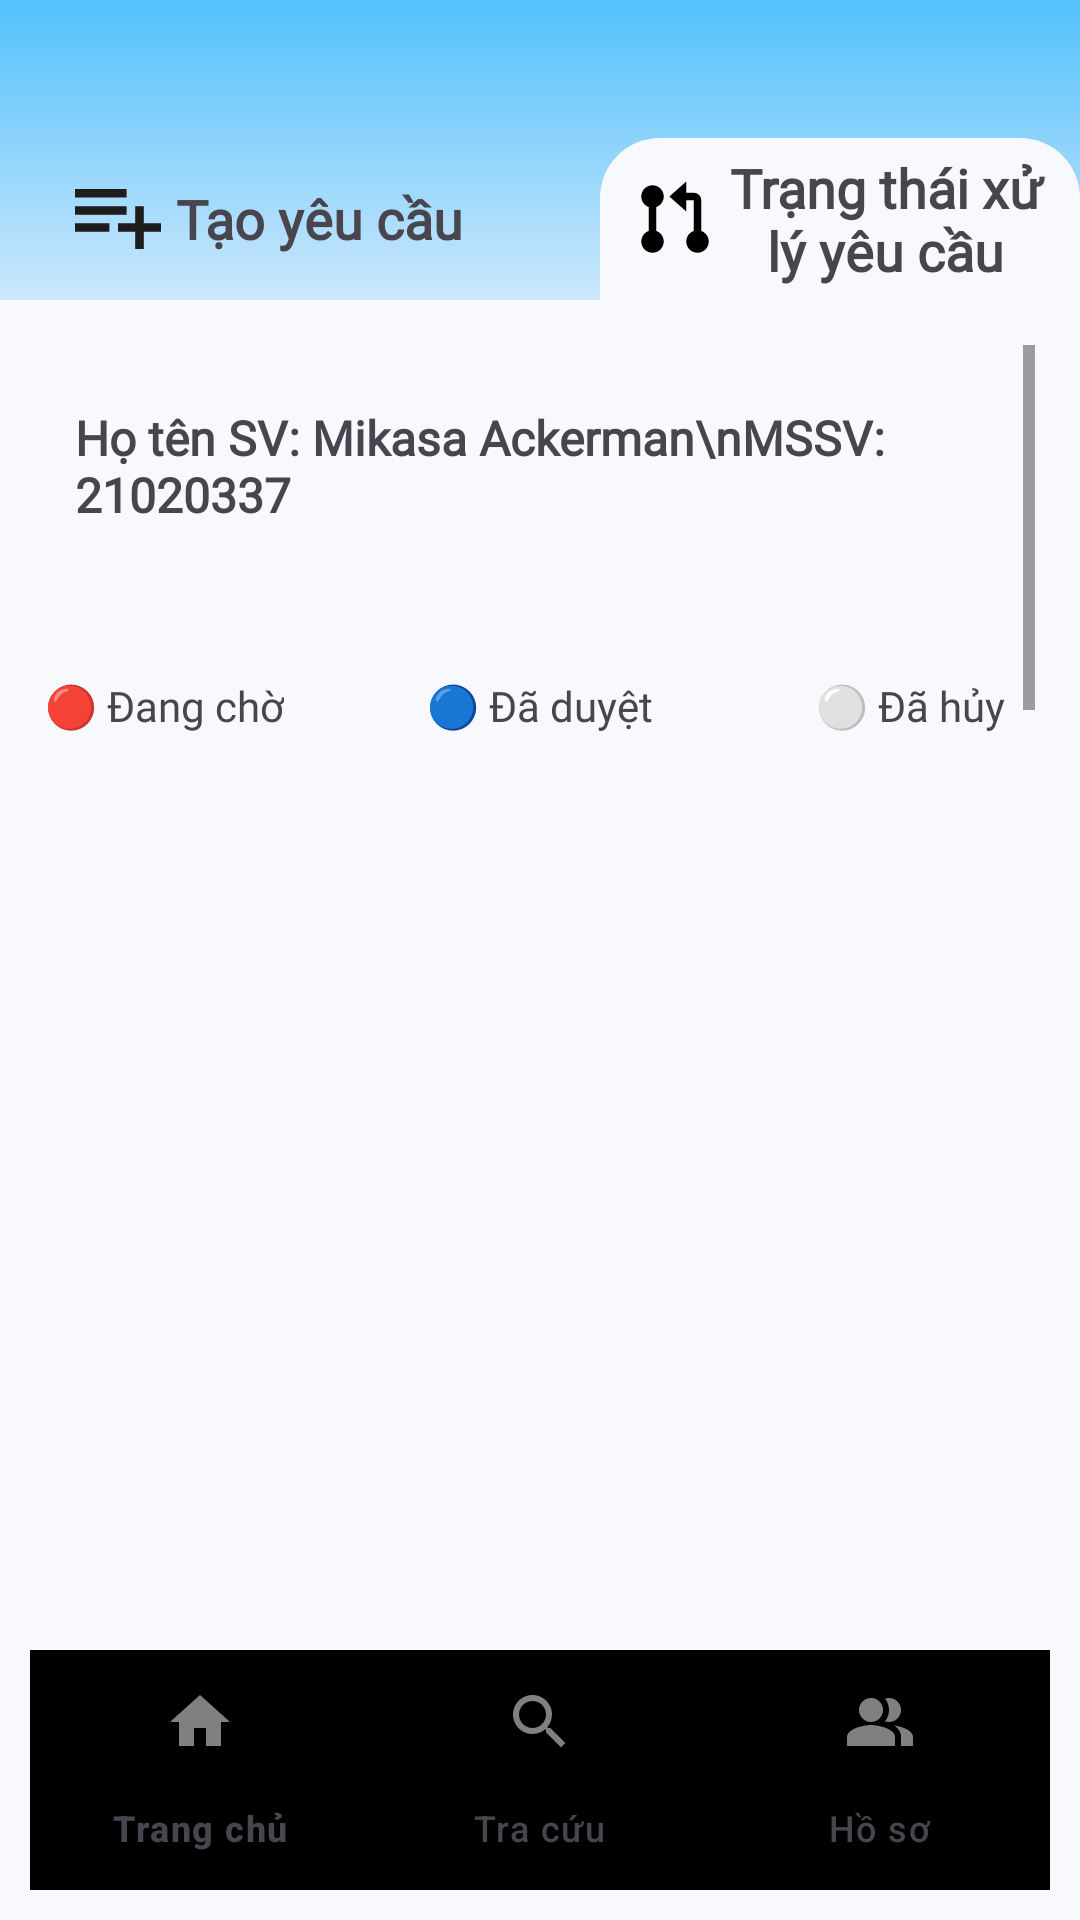

Screen size 1080 x 1920. Icon name, then its box in pixels as (x1, y1, x2, y2):
add request: (75, 189, 161, 249)
